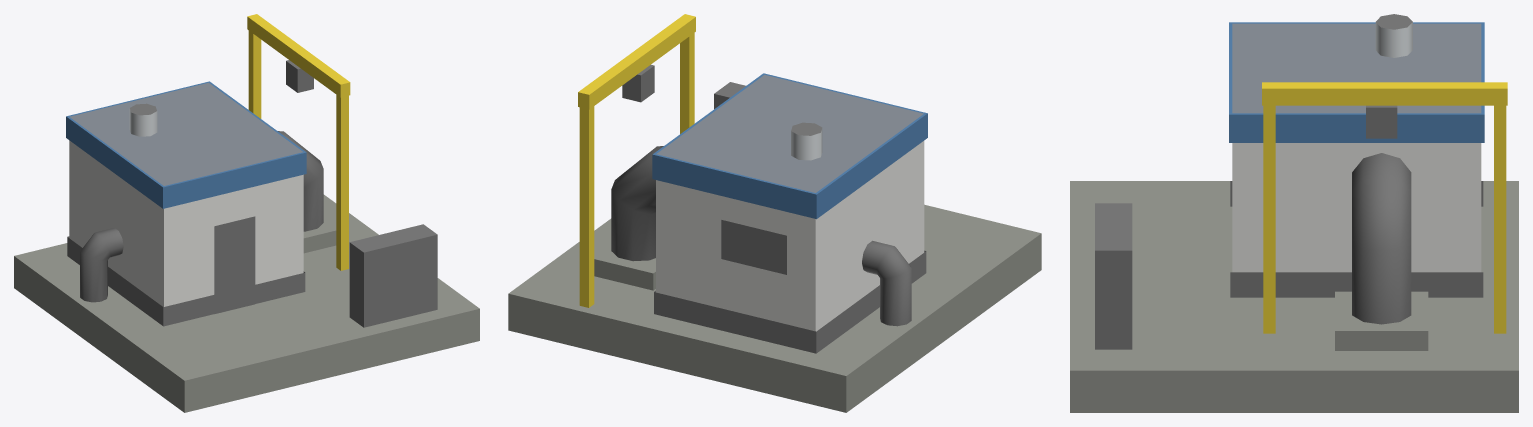
The model's file is mashup-intake-top-prebuilt.fbx.
3 renders of one model, left to right at view 1: azimuth 30°, elevation 25°; view 2: azimuth 150°, elevation 25°; view 3: azimuth 270°, elevation 25°, orthographic. The views are drawn at different scales.
Parts seen in each view (by area): view 1: a1074/0/mashup-intake-top-prebuilt; view 2: a1074/0/mashup-intake-top-prebuilt; view 3: a1074/0/mashup-intake-top-prebuilt.
Boxes of the visible parts, x1,y1,x2,y2 form: a1074/0/mashup-intake-top-prebuilt: [14, 14, 479, 412]; a1074/0/mashup-intake-top-prebuilt: [508, 14, 1041, 412]; a1074/0/mashup-intake-top-prebuilt: [1070, 14, 1518, 412].
Bounding box in the file's own units: 7.2 × 5.1 × 7.2.
